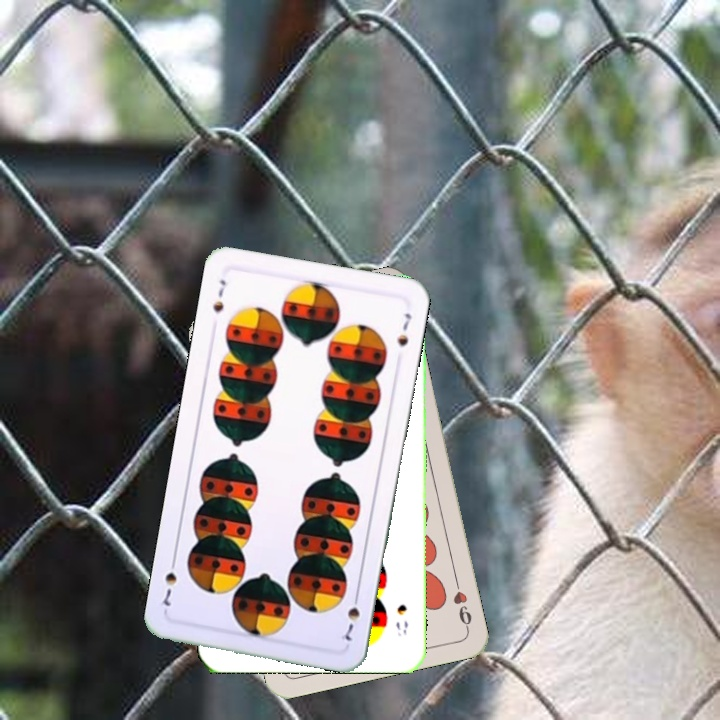H9: (449, 574, 475, 632)
S7: (337, 588, 363, 647), (208, 275, 229, 315)
S8: (392, 601, 411, 639)
